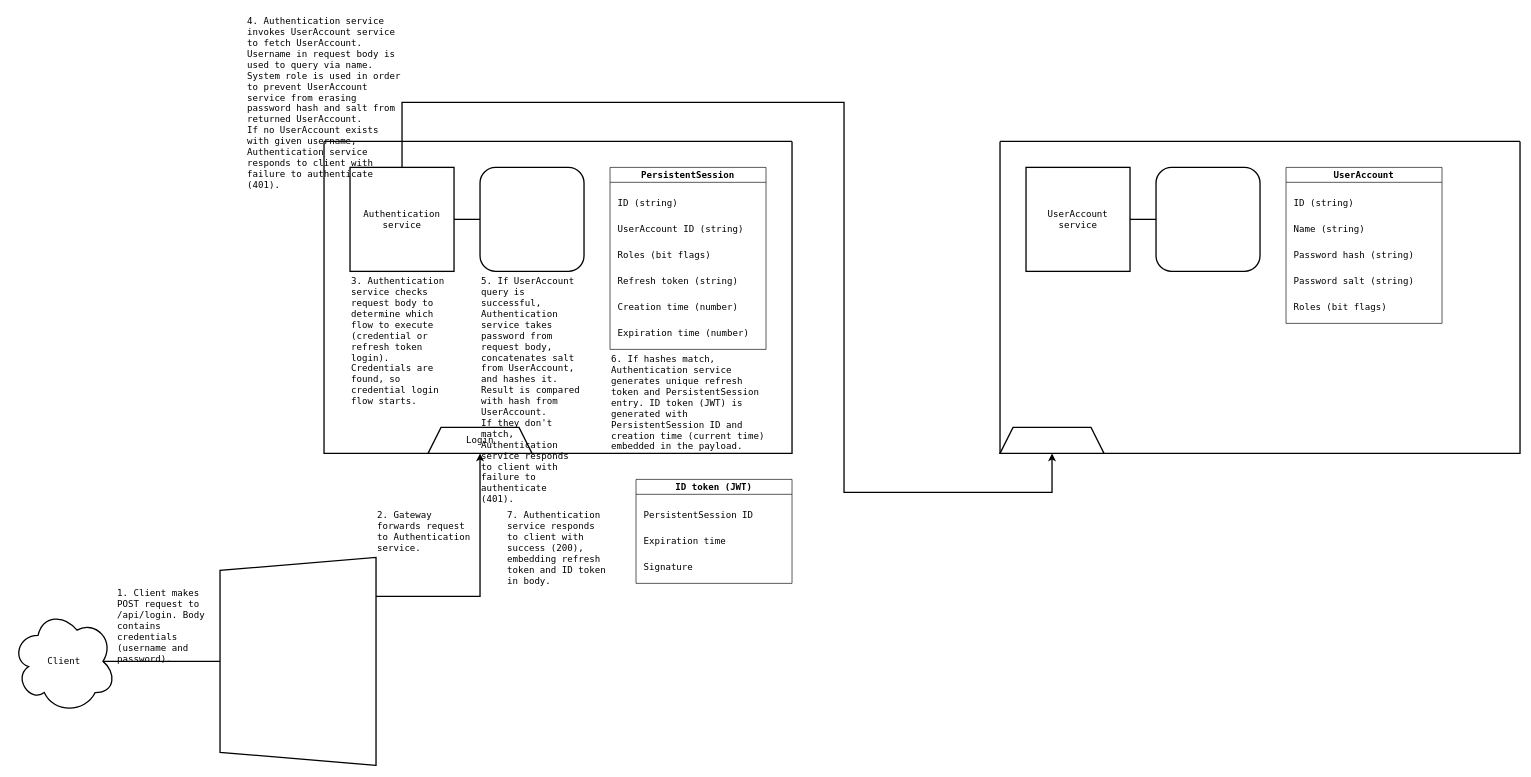
Image size: 1531x777. Some labels were removed from this diagram. The centre of each missing label's shape, as x and y in pixels:
PersistentSession database: point 531,219
POST /api/login: point 297,661
Read: point 1051,440
UserAccount database: point 1207,219
